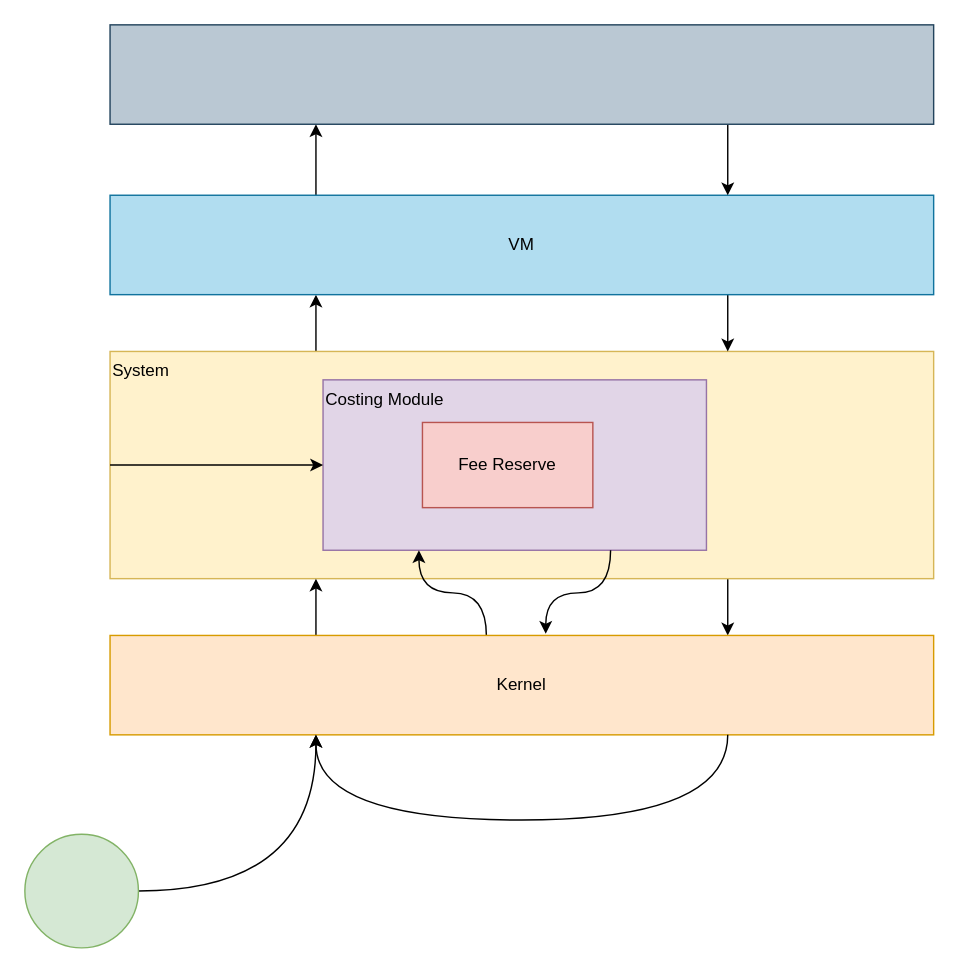
Image size: 959x973. Some labels were removed from this diagram. Each missing label, with the centre of its shape:
Application (Scrypto or Native): (521,73)
TX: (80,890)
